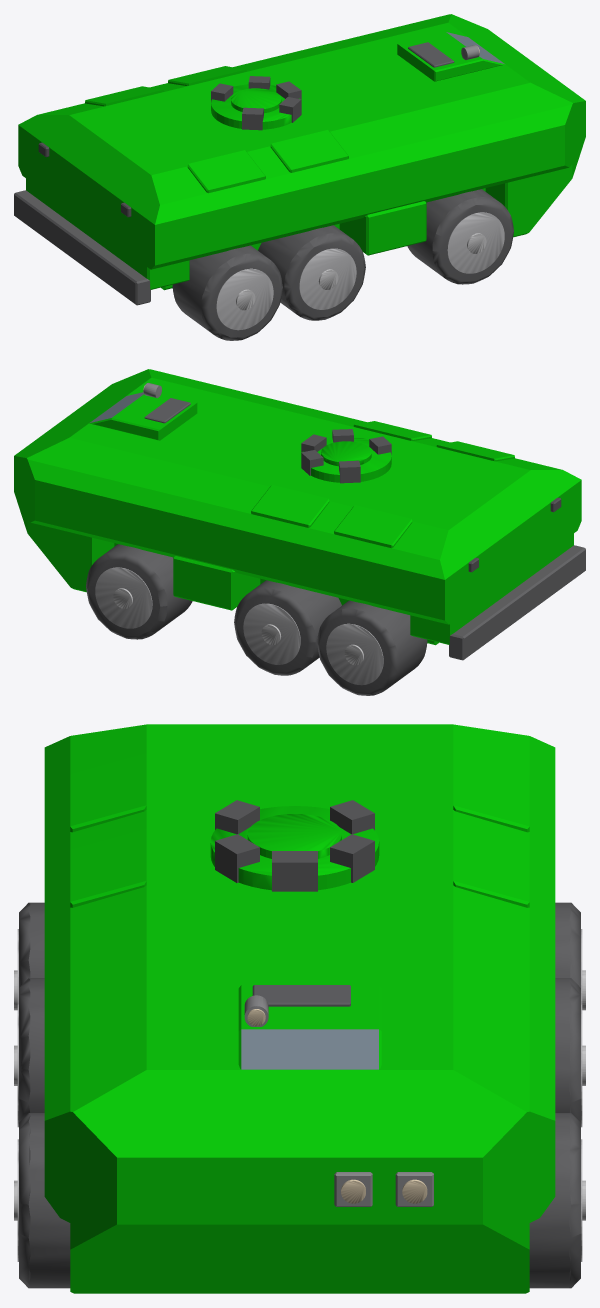
The model's file is apc.glb.
The picture shows the model from 3 angles, top to bottom: view 1: azimuth 30°, elevation 25°; view 2: azimuth 150°, elevation 25°; view 3: azimuth 270°, elevation 25°; orthographic projection. The views are drawn at different scales.
Parts seen in each view (by area): view 1: hull, tyre, bumper, tyre_5, tyre_3, door_panel, bow_lower, cab, rear_block, hub_5, hub_3, hub (+8 smaller); view 2: hull, tyre_2, bumper, tyre_6, tyre_4, door_panel, bow_lower, cab, rear_block, hub_6, hub_4, hub_2 (+8 smaller); view 3: hull, bow_lower, cab, tyre_5, tyre_6, vent, vent_2, vent_3, vent_4, tyre_3, tyre_4, hatch (+11 smaller).
Boxes of the visible parts, x1=… form: hull: x1=18, y1=14, x2=585, y2=269; tyre: x1=172, y1=245, x2=282, y2=340; bumper: x1=14, y1=190, x2=150, y2=305; tyre_5: x1=407, y1=189, x2=513, y2=284; tyre_3: x1=258, y1=225, x2=365, y2=320; door_panel: x1=339, y1=201, x2=426, y2=255; bow_lower: x1=485, y1=156, x2=579, y2=237; cab: x1=397, y1=32, x2=504, y2=81; rear_block: x1=26, y1=178, x2=189, y2=289; hub_5: x1=447, y1=212, x2=504, y2=273; hub_3: x1=299, y1=248, x2=356, y2=309; hub: x1=216, y1=268, x2=273, y2=330; hull: x1=14, y1=369, x2=581, y2=624; tyre_2: x1=317, y1=600, x2=427, y2=695; bumper: x1=449, y1=545, x2=585, y2=660; tyre_6: x1=86, y1=544, x2=192, y2=639; tyre_4: x1=234, y1=580, x2=341, y2=675; door_panel: x1=173, y1=556, x2=260, y2=610; bow_lower: x1=18, y1=504, x2=114, y2=592; cab: x1=89, y1=392, x2=197, y2=440; rear_block: x1=410, y1=528, x2=573, y2=644; hub_6: x1=95, y1=567, x2=152, y2=628; hub_4: x1=243, y1=603, x2=300, y2=664; hub_2: x1=326, y1=623, x2=383, y2=685; hull: x1=44, y1=724, x2=555, y2=1235; bow_lower: x1=70, y1=1218, x2=529, y2=1293; cab: x1=238, y1=985, x2=381, y2=1069; tyre_5: x1=19, y1=1113, x2=70, y2=1288; tyre_6: x1=529, y1=1113, x2=580, y2=1288; vent: x1=70, y1=753, x2=146, y2=832; vent_2: x1=453, y1=753, x2=529, y2=832; vent_3: x1=70, y1=829, x2=146, y2=907; vent_4: x1=453, y1=829, x2=529, y2=907; tyre_3: x1=19, y1=978, x2=44, y2=1122; tyre_4: x1=555, y1=978, x2=580, y2=1122; hatch: x1=247, y1=814, x2=341, y2=858.
Bounding box in the file's own units: 1.28 × 0.4658 × 0.7264.
